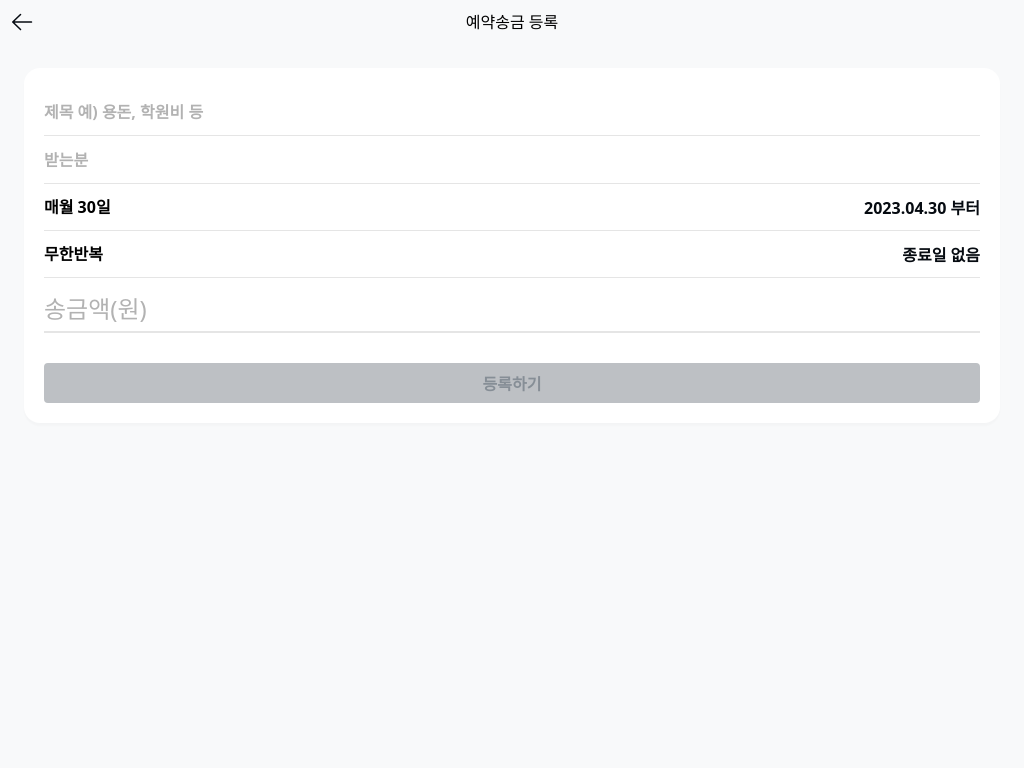
Test case: 송금등록화면 Input 입력 완료시 button active
Check: the navigation bar is shown, box left=0, top=0, right=1023, bottom=44
Type "테스트" into the field with placeholder "제목 예) 용돈, 학원비 등" at (512, 112), box left=44, top=88, right=980, bottom=135
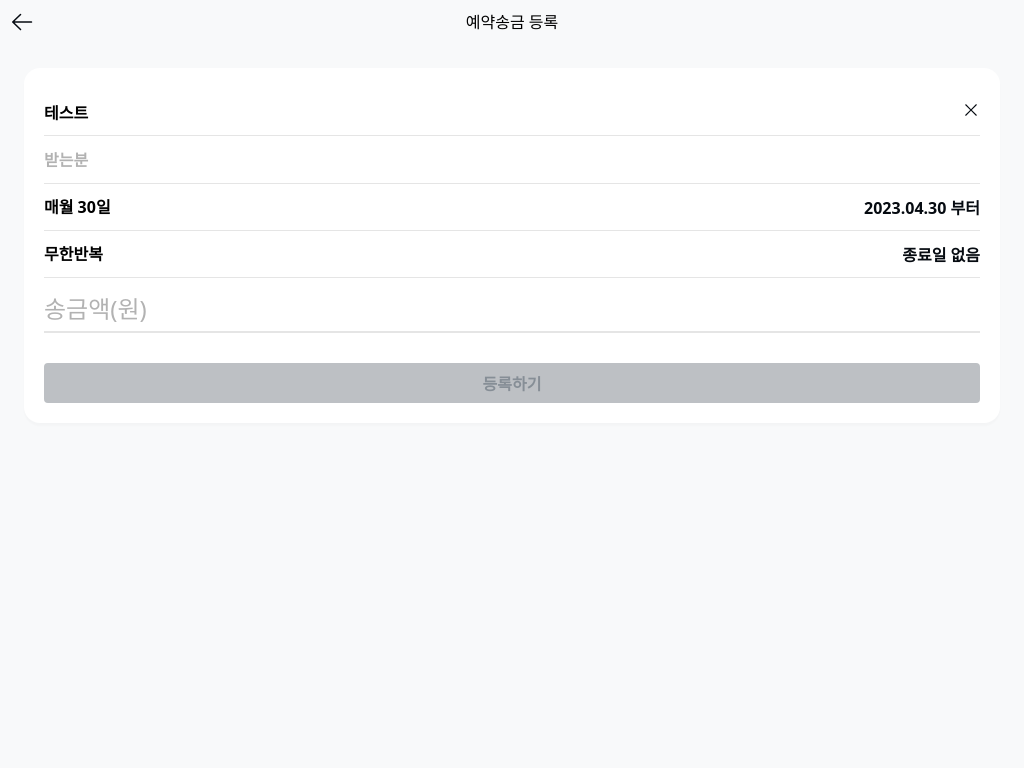
Click the field with placeholder "받는분" at (512, 160), box left=44, top=136, right=980, bottom=183
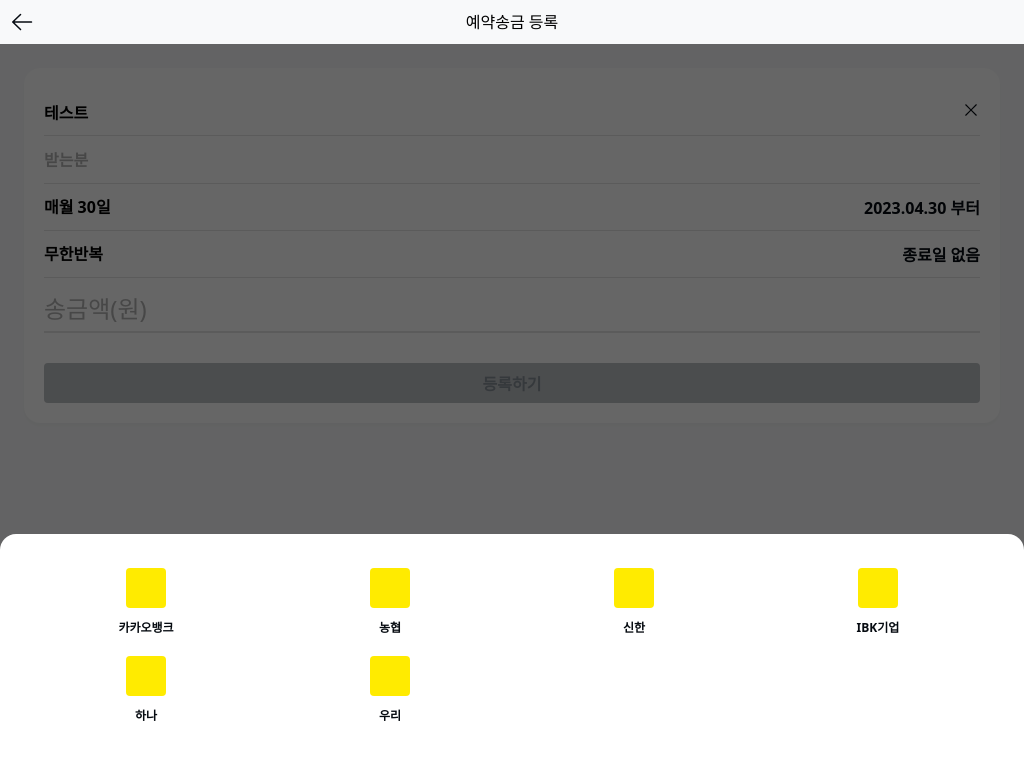
Click the button "카카오뱅크" at (146, 602), box left=118, top=568, right=174, bottom=636
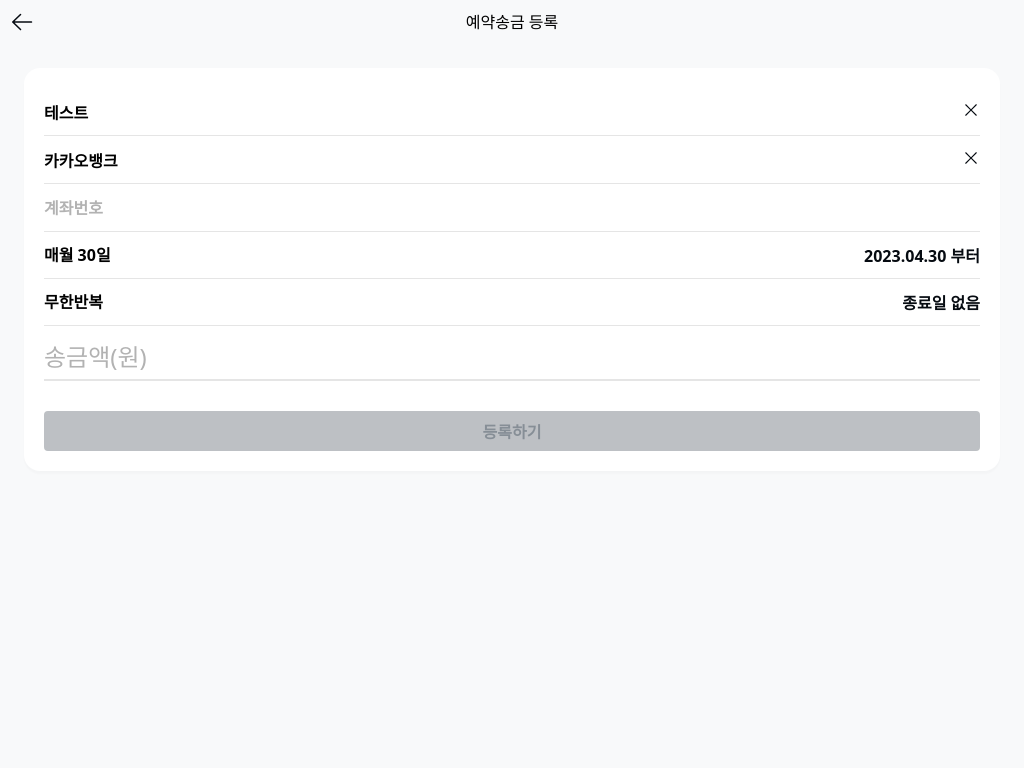
Type "1111-1111-111" into the field with placeholder "계좌번호" at (512, 208), box left=44, top=184, right=980, bottom=231
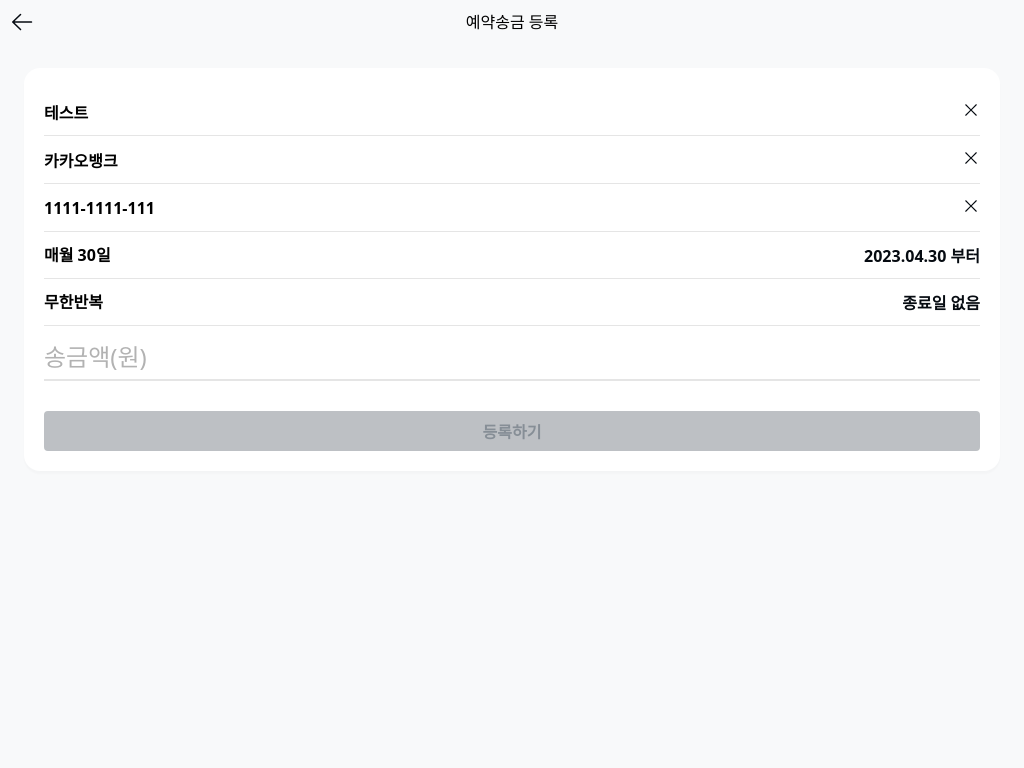
Type "10000" into the field with placeholder "송금액(원)" at (512, 356), box left=44, top=333, right=980, bottom=379
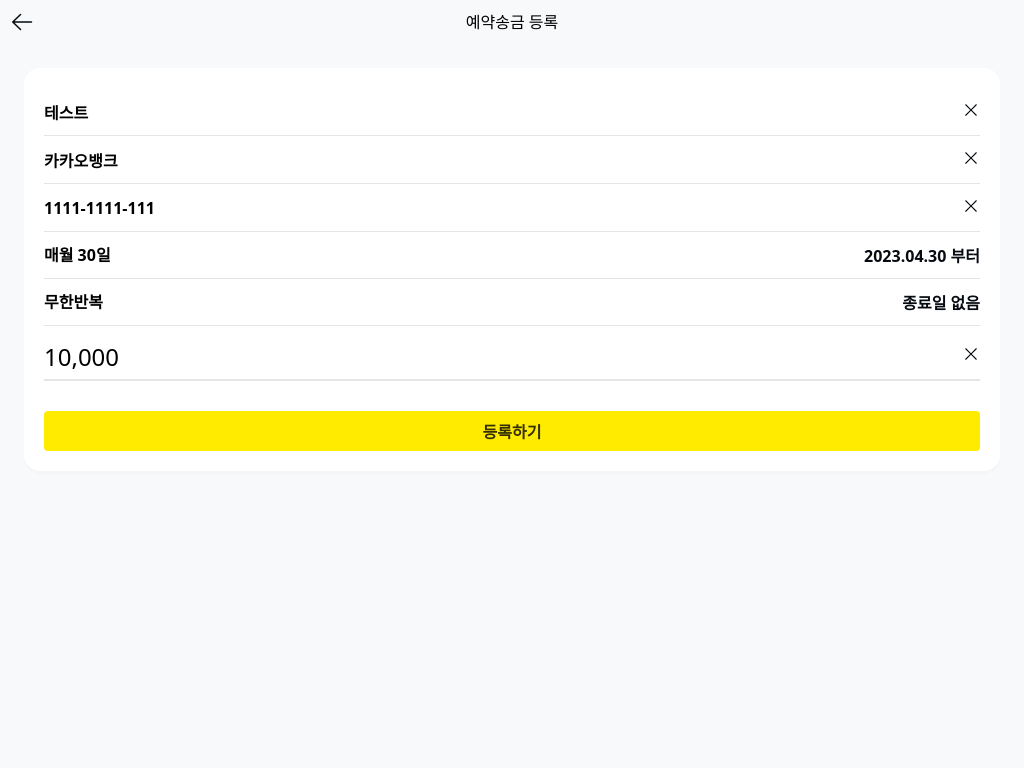
Check: the button "등록하기" is enabled, box left=44, top=411, right=980, bottom=451
